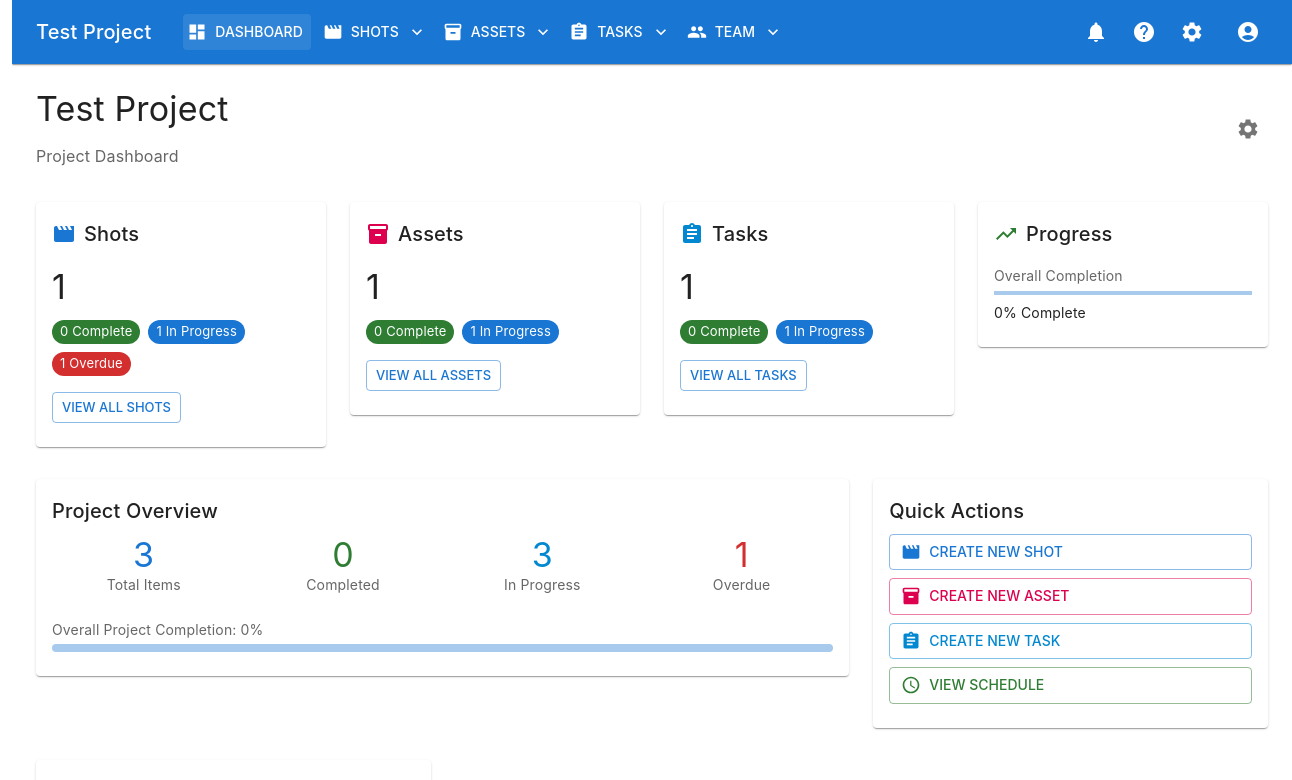
it: Dashboard and Navigation Integration › navigates from dashboard to shots via dashboard button
Expected: the heading "Project Dashboard" is shown, left=36, top=146, right=179, bottom=166
# Click "View All Shots" button on dashboard
Click the button "View All Shots" at point(116, 407), box left=52, top=392, right=181, bottom=423
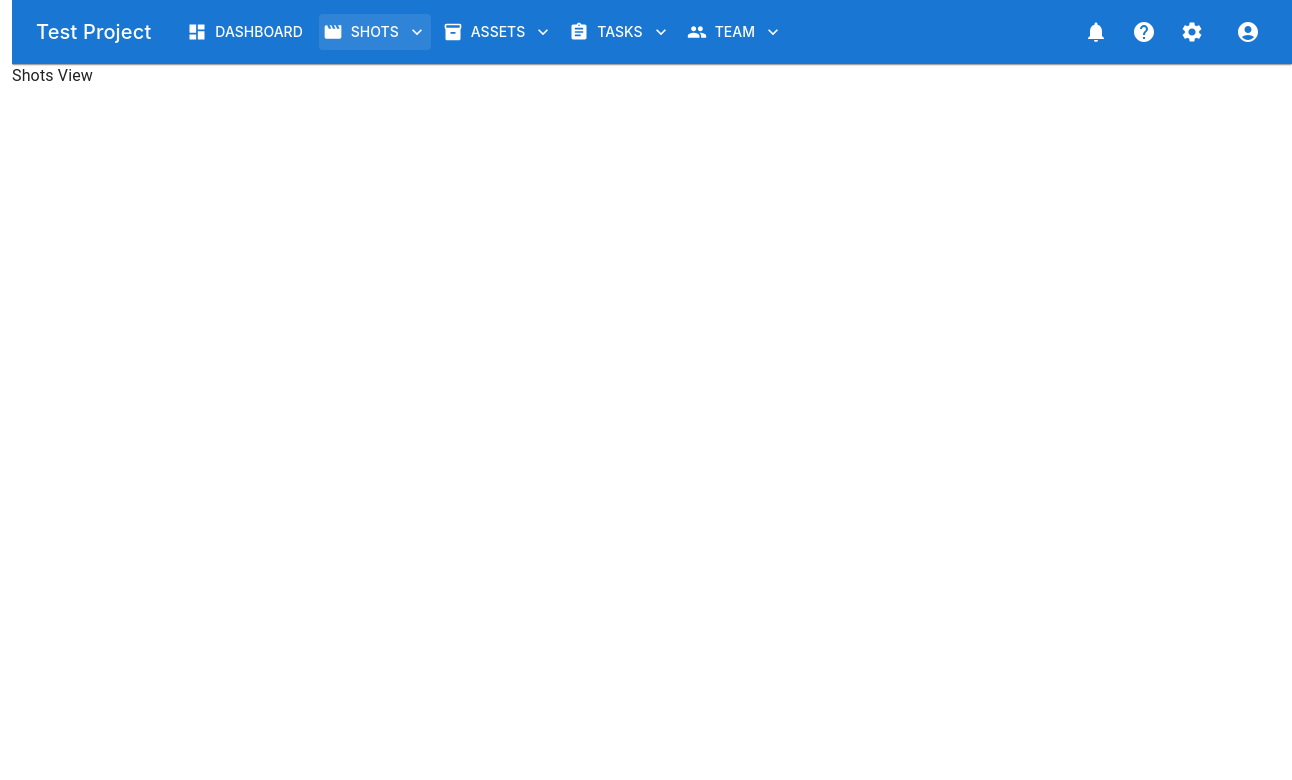
Result: the text "Shots View" is shown at left=12, top=66, right=93, bottom=85
